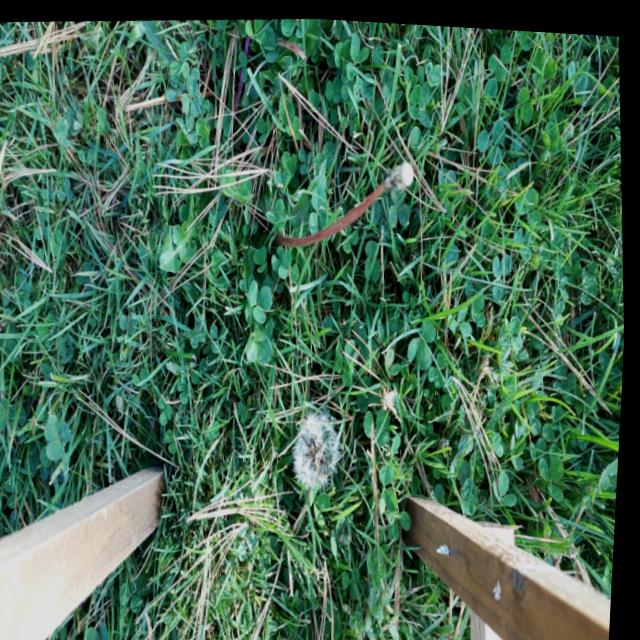base: (267, 220, 291, 252)
